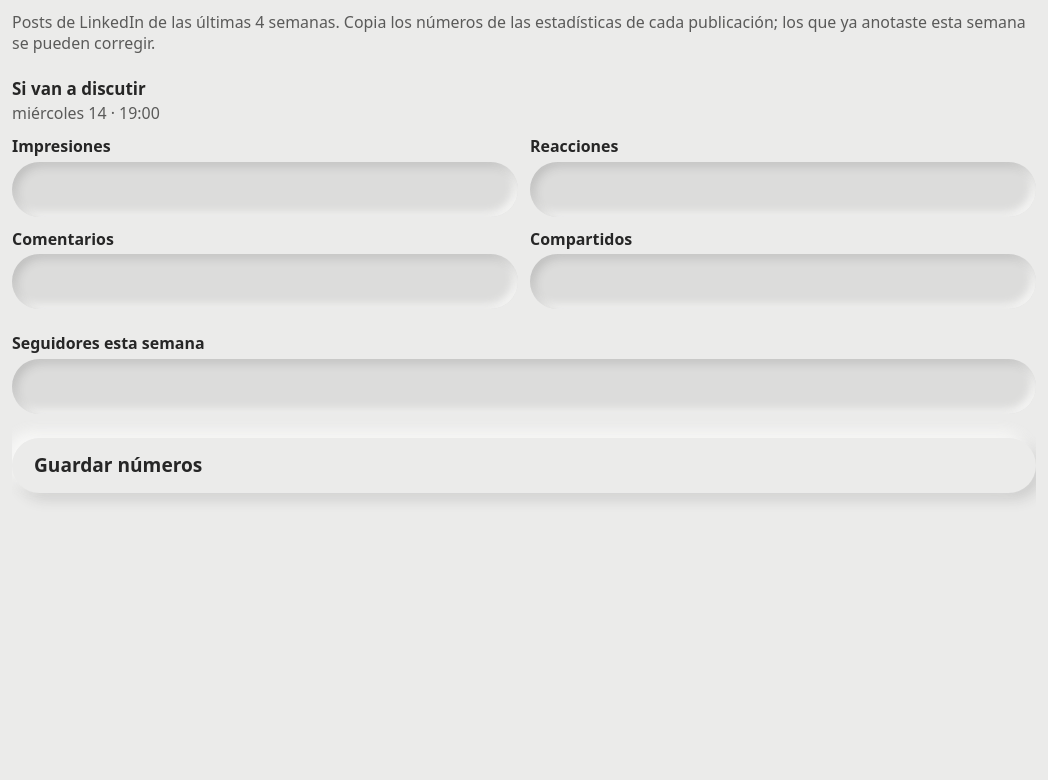
it: NumerosDeLinkedin › sends the four numbers of a post and the followers, then says it saved
Type "1.200" into the field named "Impresiones de Si van a discutir". click: (265, 189)
box: top-left (12, 162), bottom-right (518, 217)
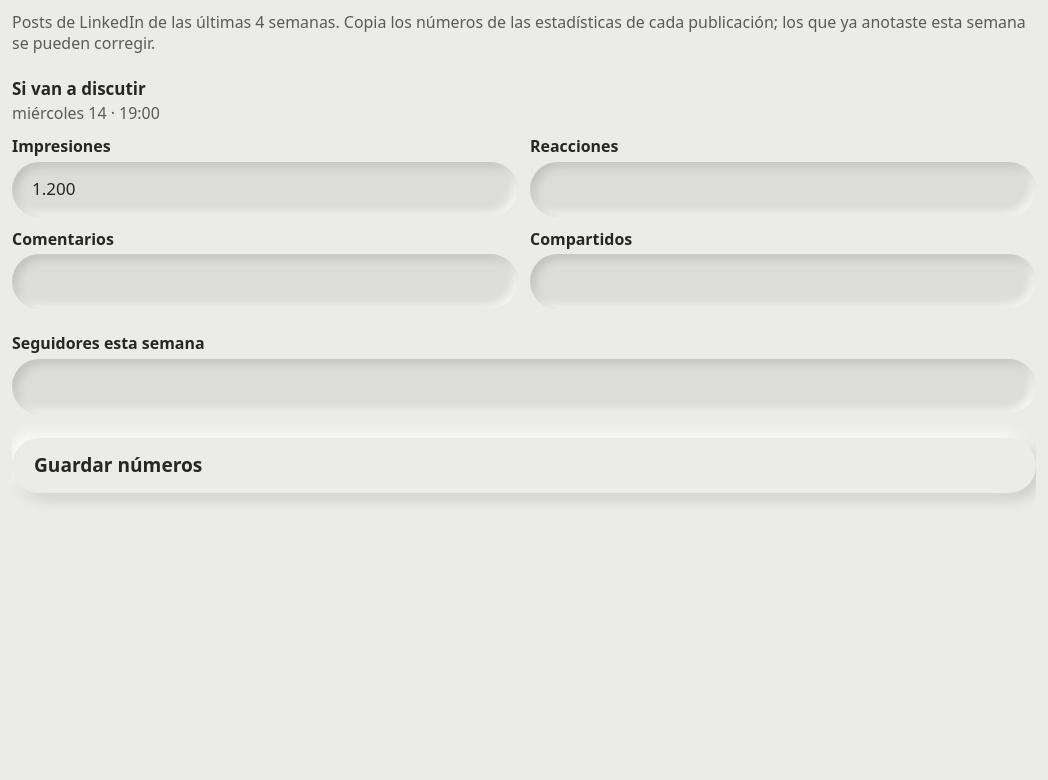
Type "14" into the field named "Reacciones de Si van a discutir". click: (783, 189)
box: top-left (530, 162), bottom-right (1036, 217)
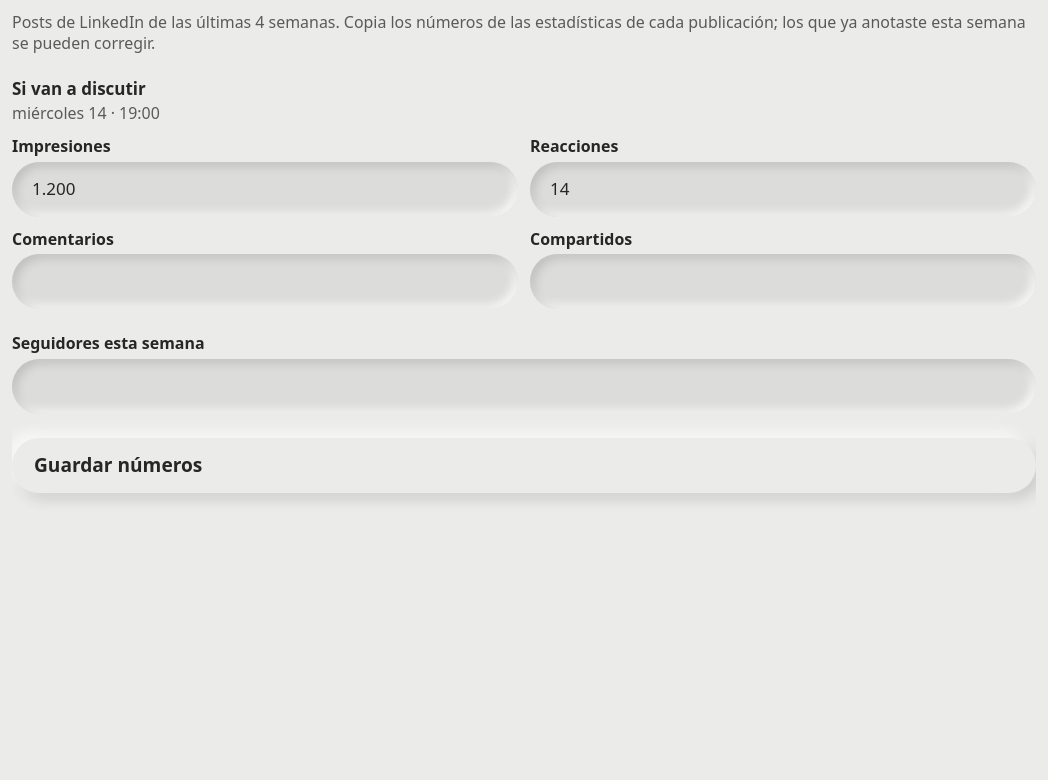
Type "3" into the field named "Comentarios de Si van a discutir". click: (265, 282)
box: top-left (12, 254), bottom-right (518, 309)
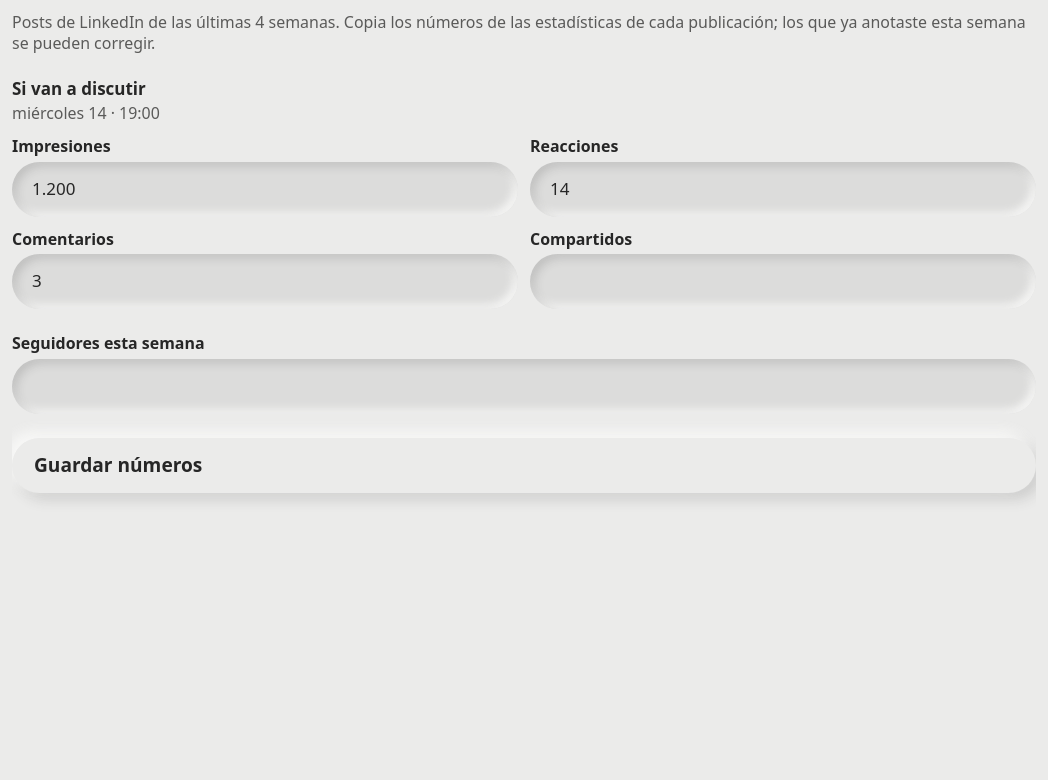
Type "1" into the field named "Compartidos de Si van a discutir". click: (783, 282)
box: top-left (530, 254), bottom-right (1036, 309)
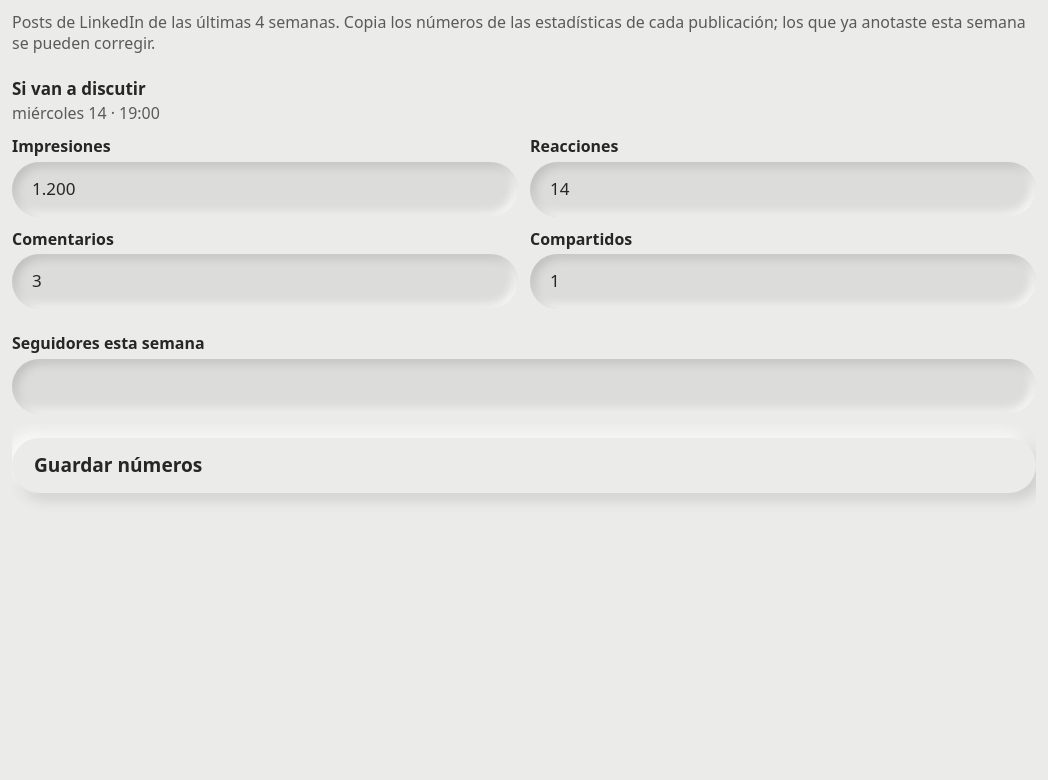
Type "830" into the field labelled "Seguidores esta semana". click: (524, 386)
box: top-left (12, 359), bottom-right (1036, 414)
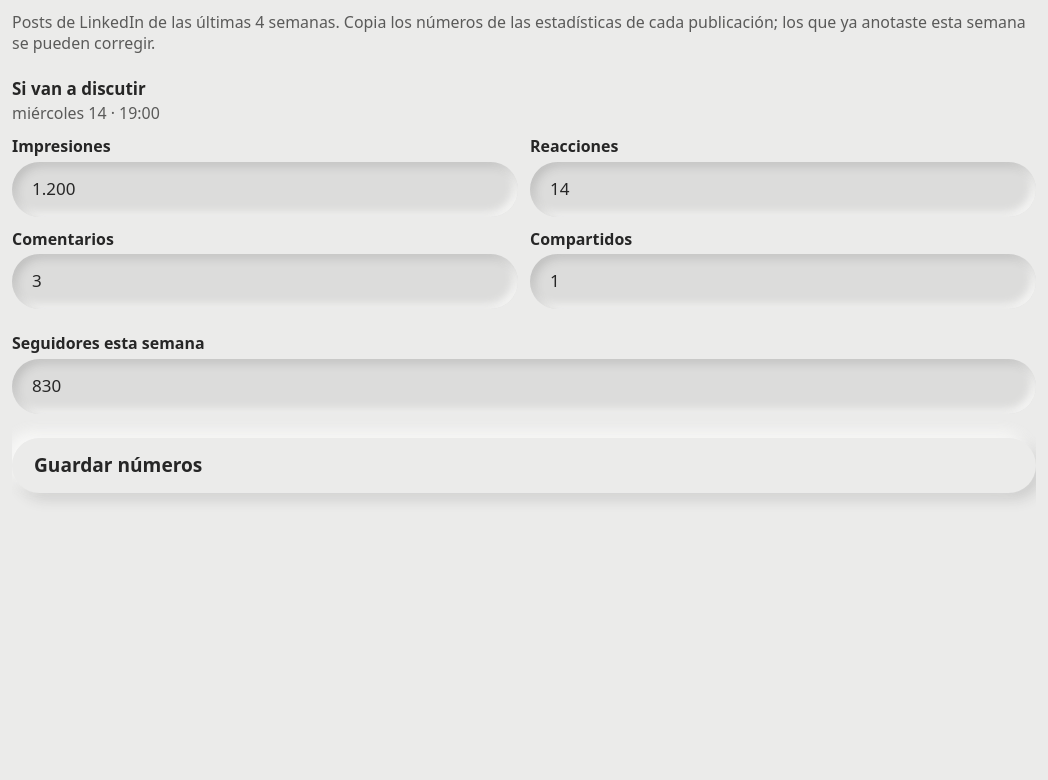
Click the button "Guardar números". click: (118, 465)
box: top-left (12, 438), bottom-right (1036, 493)
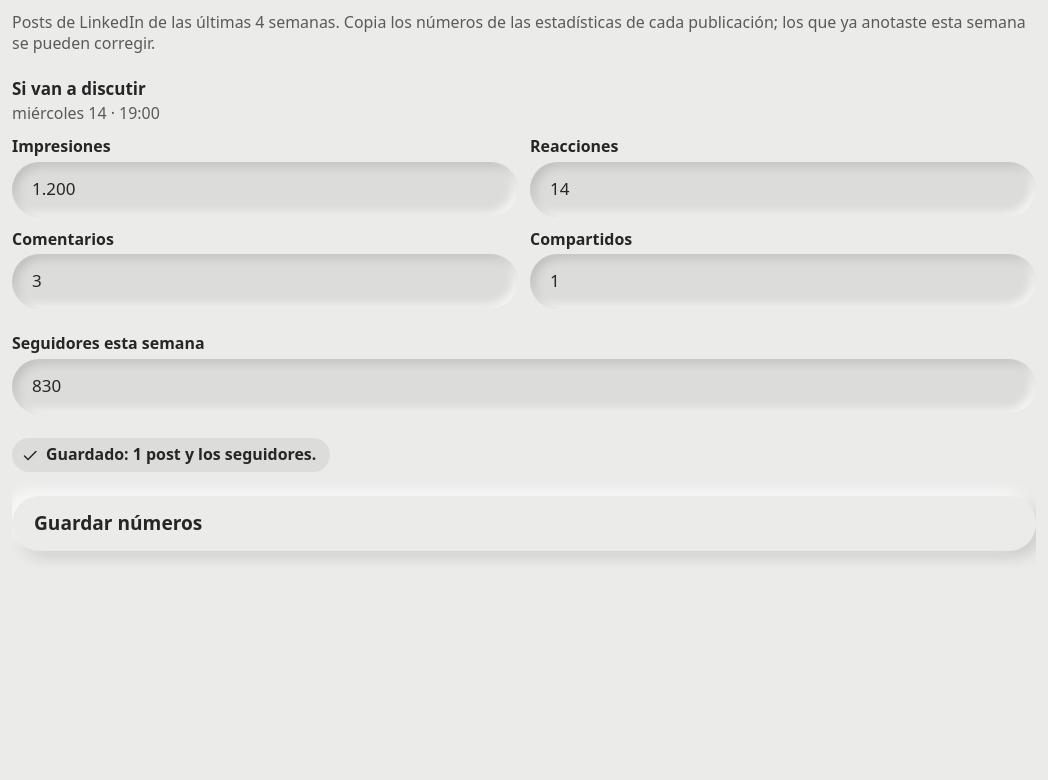
Now the text "Guardado: 1 post y los seguidores." is shown, box top-left (46, 444), bottom-right (316, 465)
